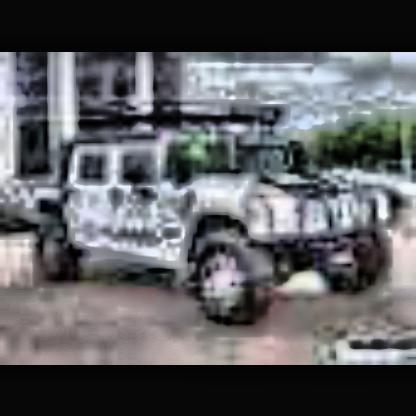AM General Hummer SUV 2000: (26, 91, 407, 335)
